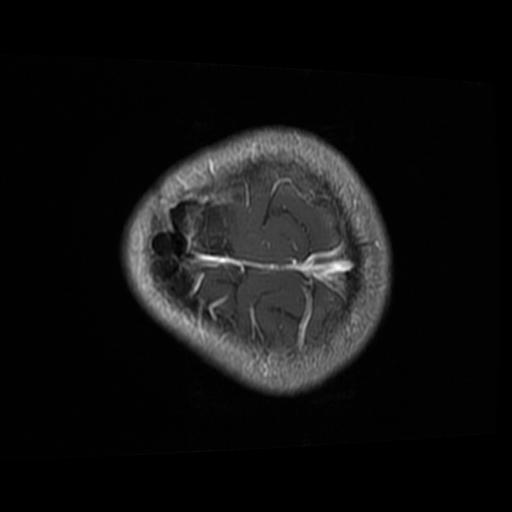glioma: (151, 200, 234, 304)
